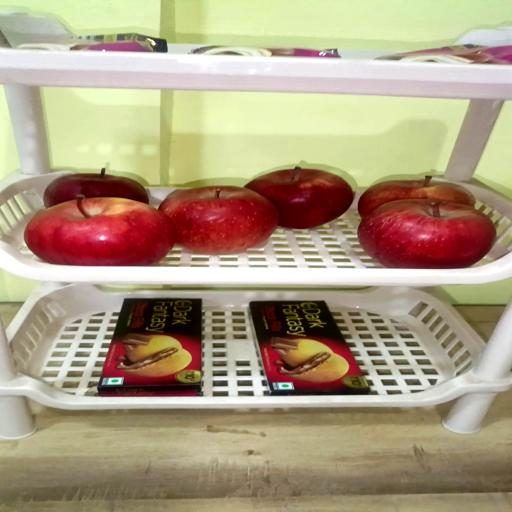Apple: (24, 197, 175, 269), (357, 202, 496, 271), (162, 188, 281, 256), (245, 169, 354, 231), (358, 178, 474, 220), (42, 169, 148, 209)
Choco Fills: (251, 300, 371, 396), (97, 297, 201, 398)
Choco Pie: (377, 43, 512, 65), (70, 33, 166, 52), (190, 46, 340, 58)
